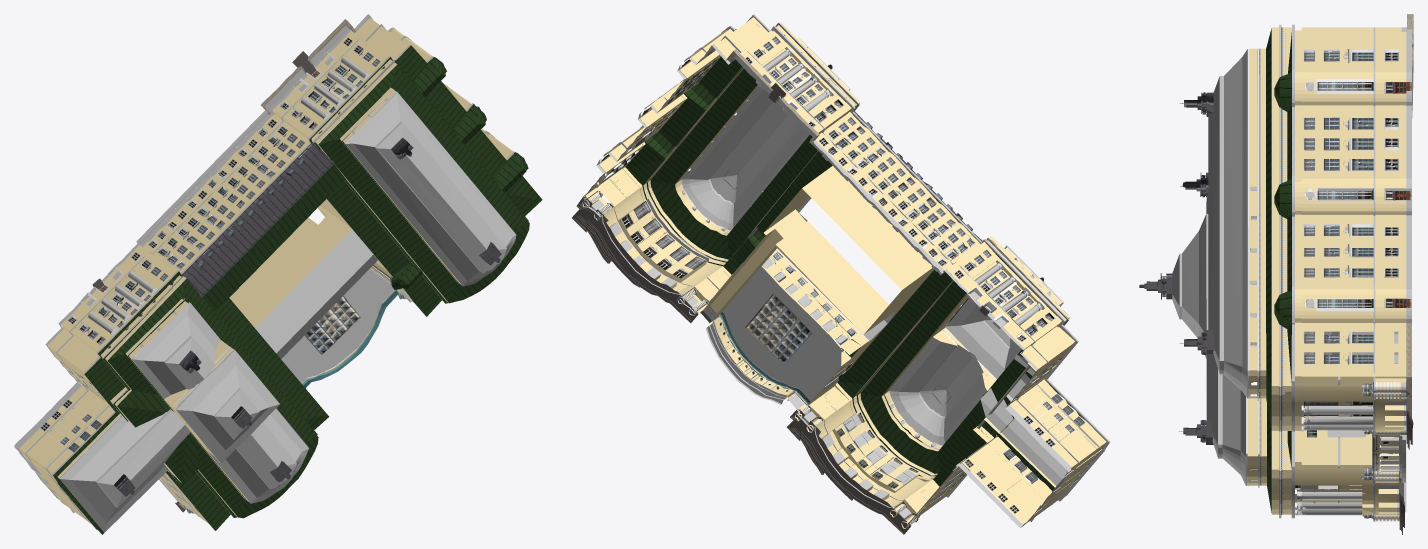
File: Estonia_pst-4-origo.obj
The picture shows the model from 3 angles, left to right: view 1: azimuth 30°, elevation 25°; view 2: azimuth 150°, elevation 25°; view 3: azimuth 270°, elevation 25°; orthographic projection. The views are drawn at different scales.
Parts seen in each view (by area): view 1: Estonia_pst_4; view 2: Estonia_pst_4; view 3: Estonia_pst_4.
Part boxes in pixels (box(x1,y1,x2,y2)): Estonia_pst_4: box(14, 14, 542, 534); Estonia_pst_4: box(572, 14, 1110, 534); Estonia_pst_4: box(1139, 14, 1413, 534).
Size of the model in its own units: 120 by 104 by 40.86.
